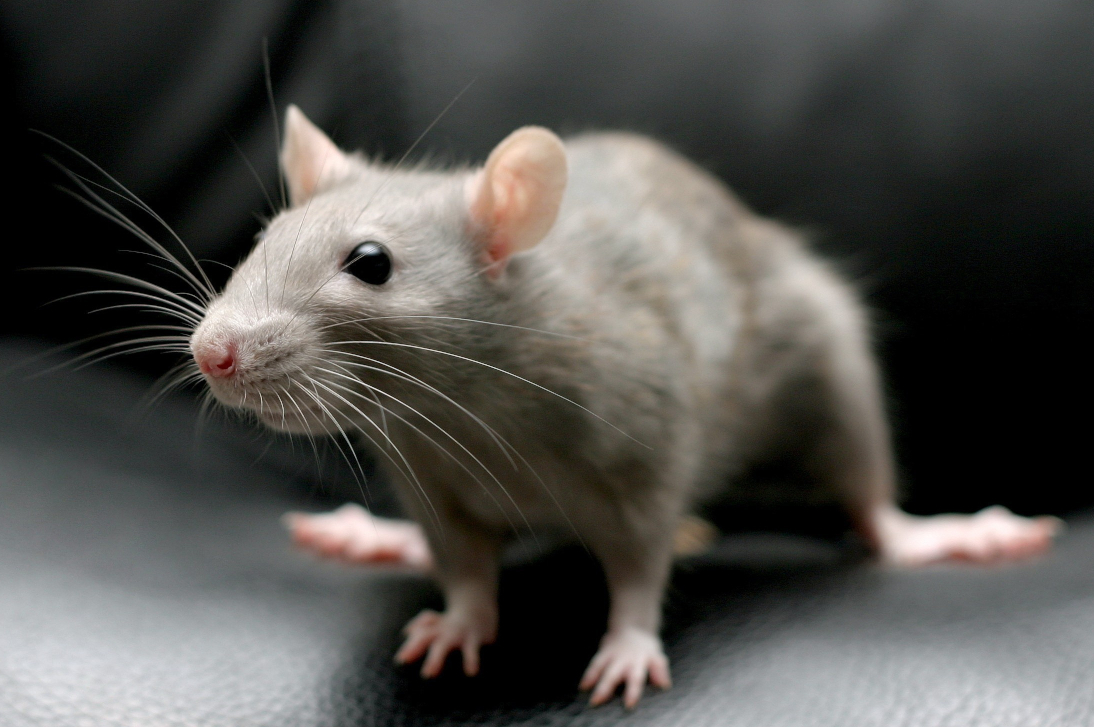rat: (112, 72, 832, 727)
